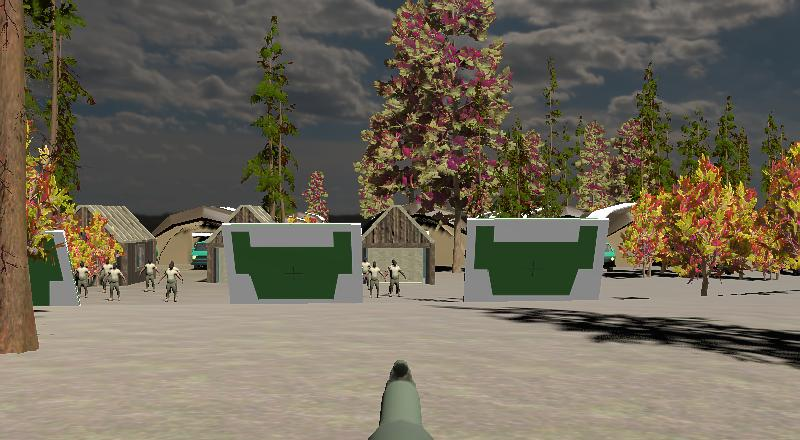House: (359, 203, 442, 285), (73, 203, 158, 279)
Human: (159, 260, 185, 304), (384, 258, 408, 299), (104, 262, 127, 303), (72, 260, 92, 301), (139, 256, 159, 293), (367, 260, 385, 299), (97, 259, 113, 294)
car: (190, 236, 211, 270), (600, 240, 618, 271)
